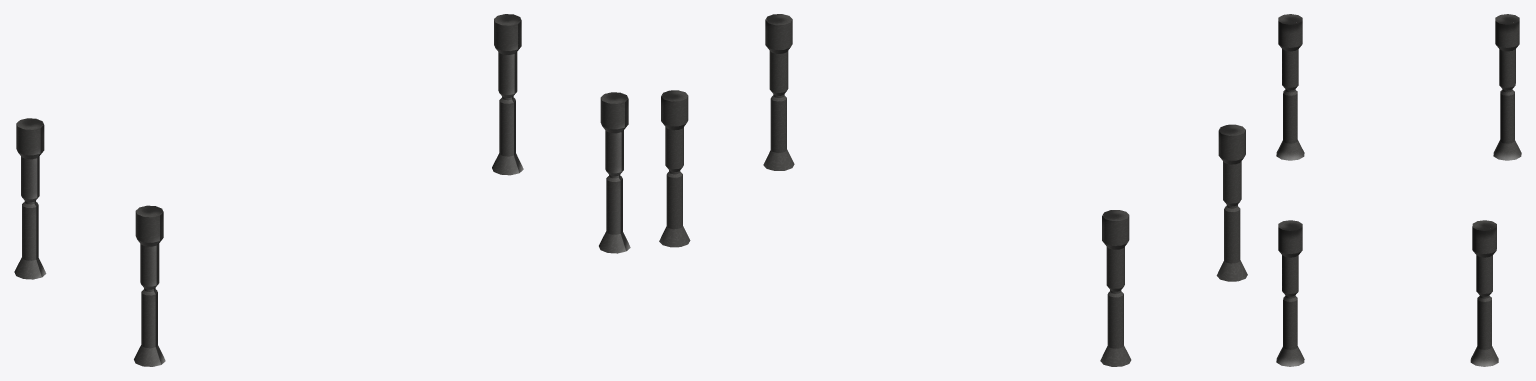
The model's file is Table_Legs.fbx.
3 renders of one model, left to right at view 1: azimuth 30°, elevation 25°; view 2: azimuth 150°, elevation 25°; view 3: azimuth 270°, elevation 25°, orthographic. The views are drawn at different scales.
Visible parts, largest first — view 1: polySurface81; view 2: polySurface81; view 3: polySurface81.
Part boxes in pixels (box(x1,y1,x2,y2)): polySurface81: box(14, 14, 630, 366); polySurface81: box(659, 14, 1247, 366); polySurface81: box(1276, 14, 1521, 366).
Size of the model in its own units: 122 by 35.2 by 57.87.
